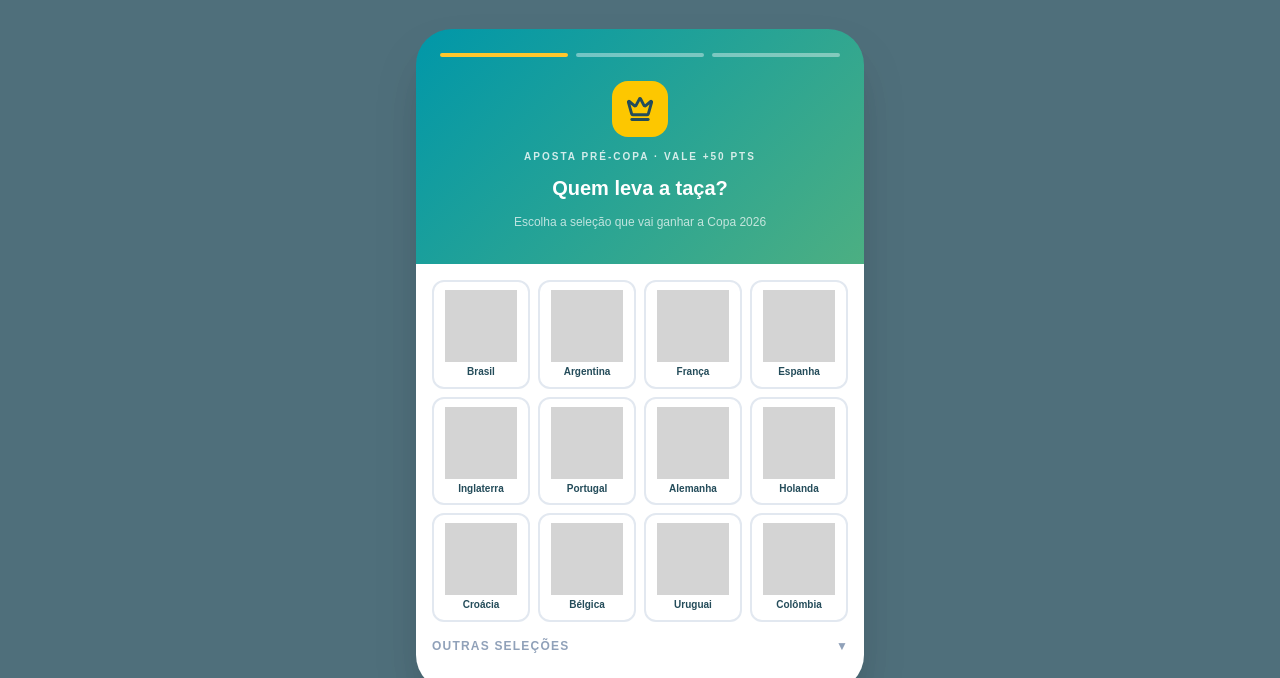
Test: PreCopaBetModal › clicking a team card selects it and enables "Escolher Vice →"
Step 1. Click the button with test id "team-card-br" → (481, 335), box [432,280,530,389]
(page scrolled)
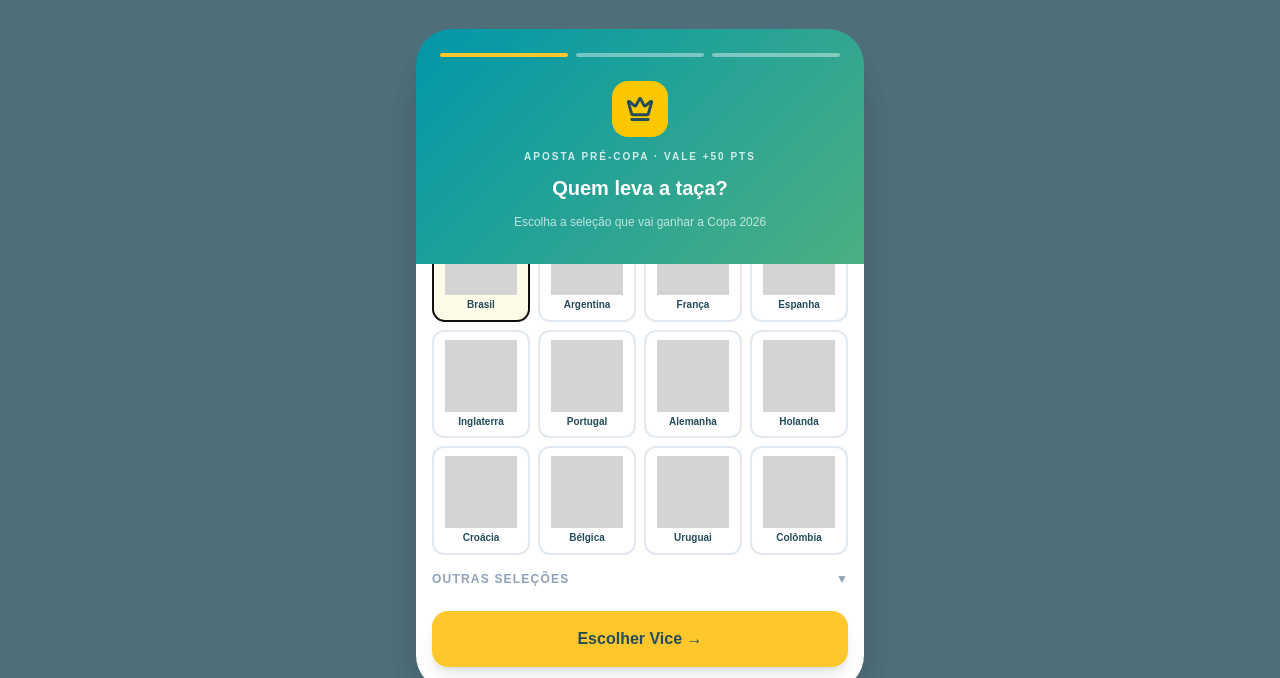
Expected: the button "Escolher Vice →" is enabled, [432,611,848,667]
